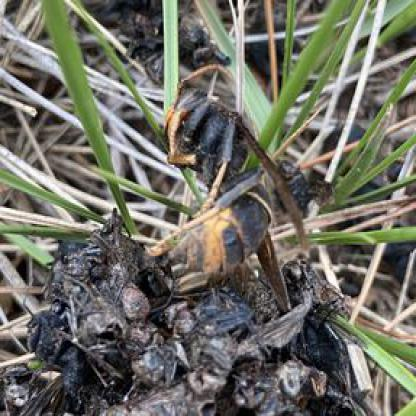Asian Hornet: (142, 66, 311, 320)
